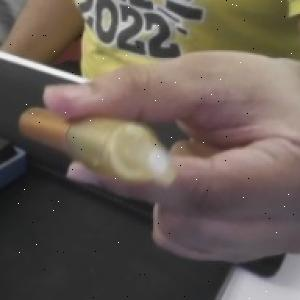Golden-E-Ciggirate: (19, 98, 179, 191)
